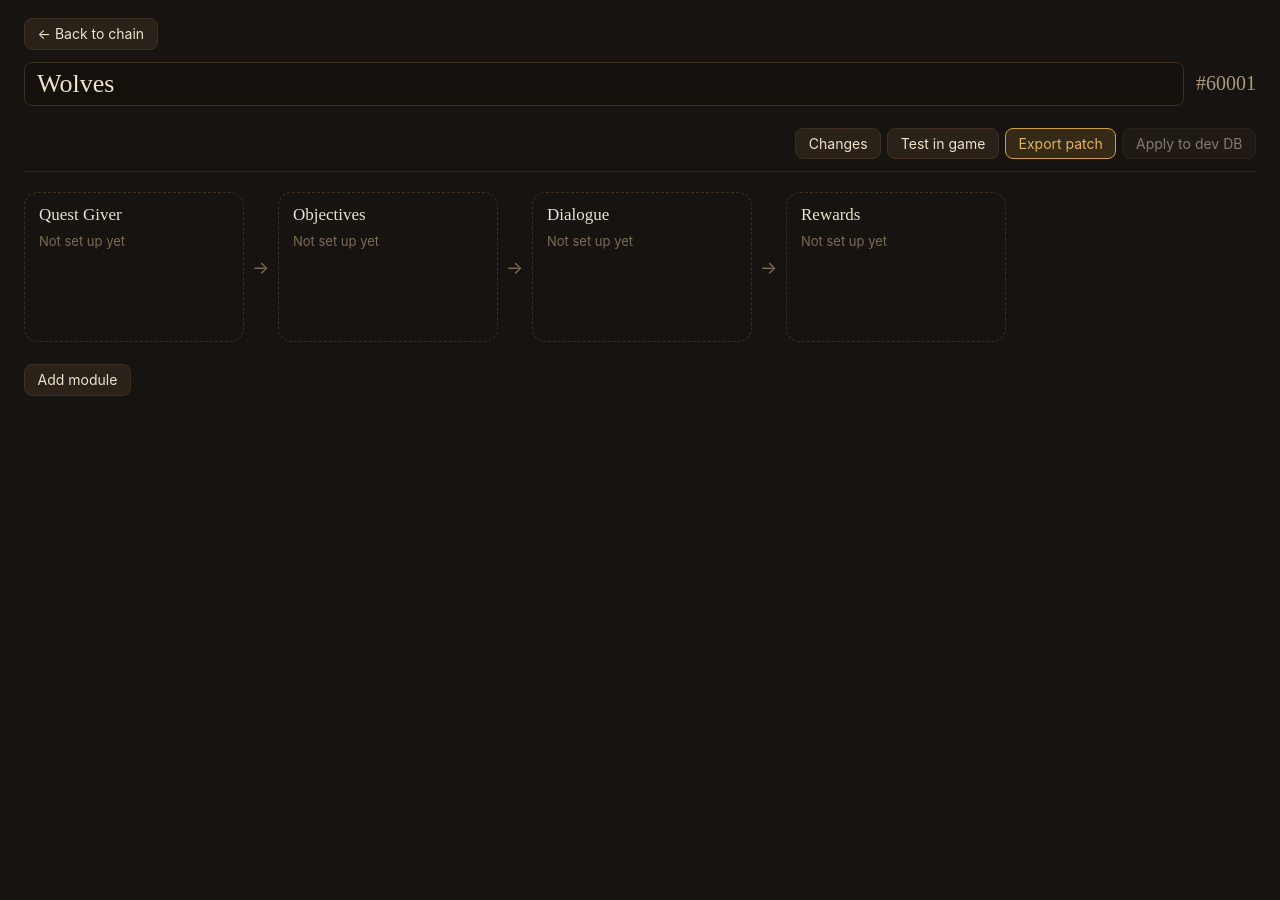
it: Quest flow view › renders the real module content when a module is opened, not a placeholder
Click the button "Dialogue Not set up yet" at (642, 267), box [532,192,752,342]
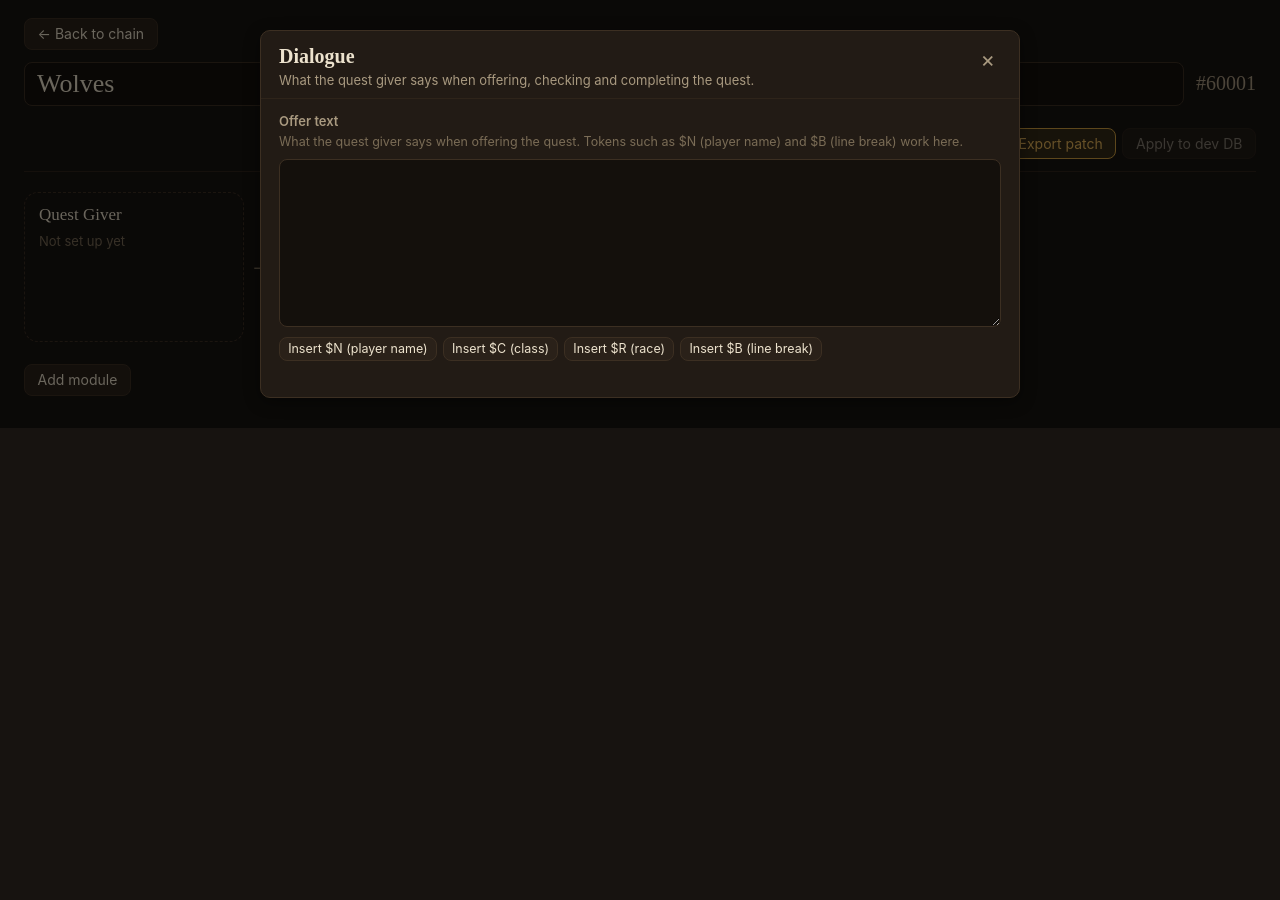
Check: the text box labelled "Offer text" is shown, box [279,159,1001,327]
